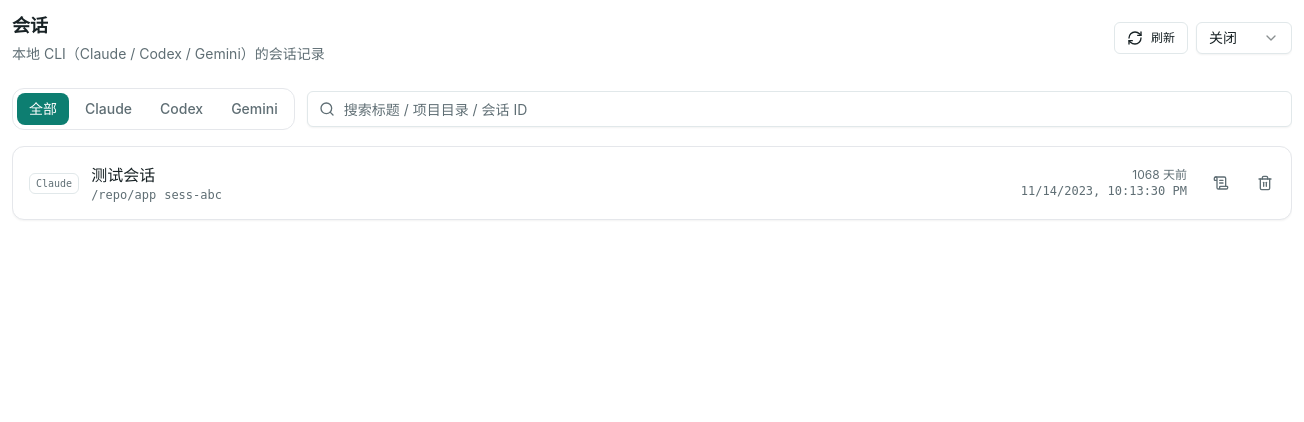
SessionsPage › 点击会话请求消息并渲染
Step 1. Click the text "测试会话" → (123, 175), box x1=91 y1=165 x2=155 y2=185
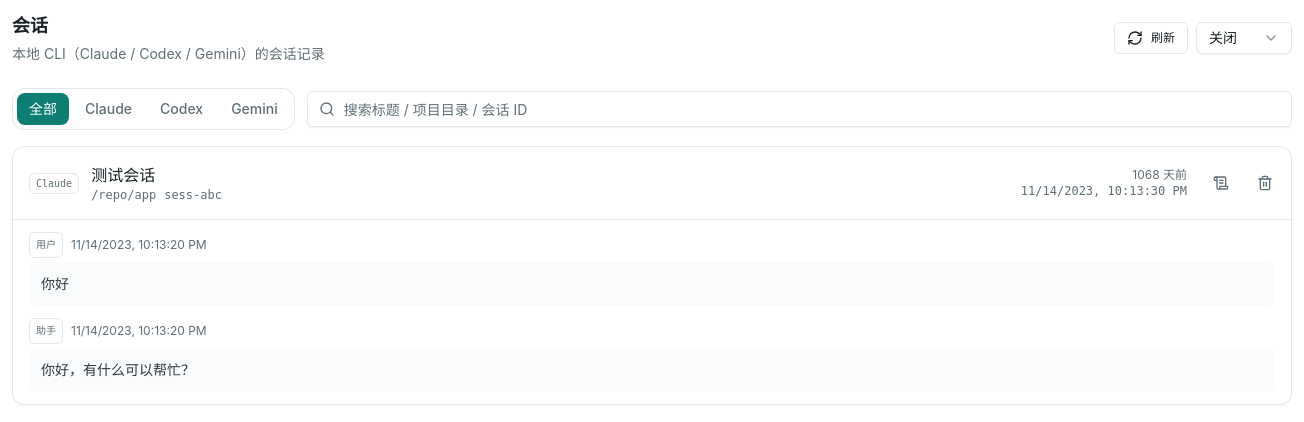
Expected: the text "你好" is shown, x1=29 y1=262 x2=1275 y2=306
Expected: the text "你好，有什么可以帮忙？" is shown, x1=29 y1=348 x2=1275 y2=392
Expected: the text "用户" is shown, x1=29 y1=232 x2=63 y2=258
